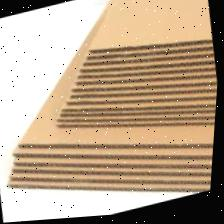cardboard: (0, 13, 223, 211), (55, 0, 224, 152)
